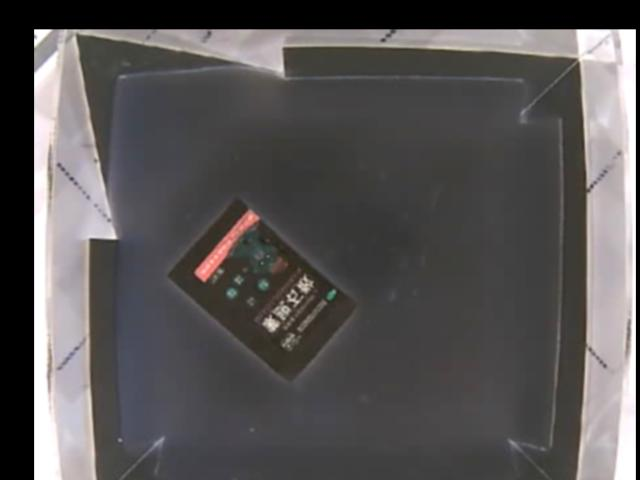Medicine: (163, 200, 356, 386)
